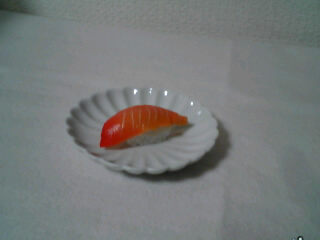002_classes: (97, 101, 193, 150)
